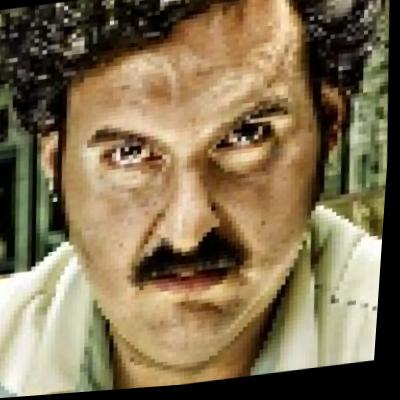angry: (49, 13, 335, 357)
